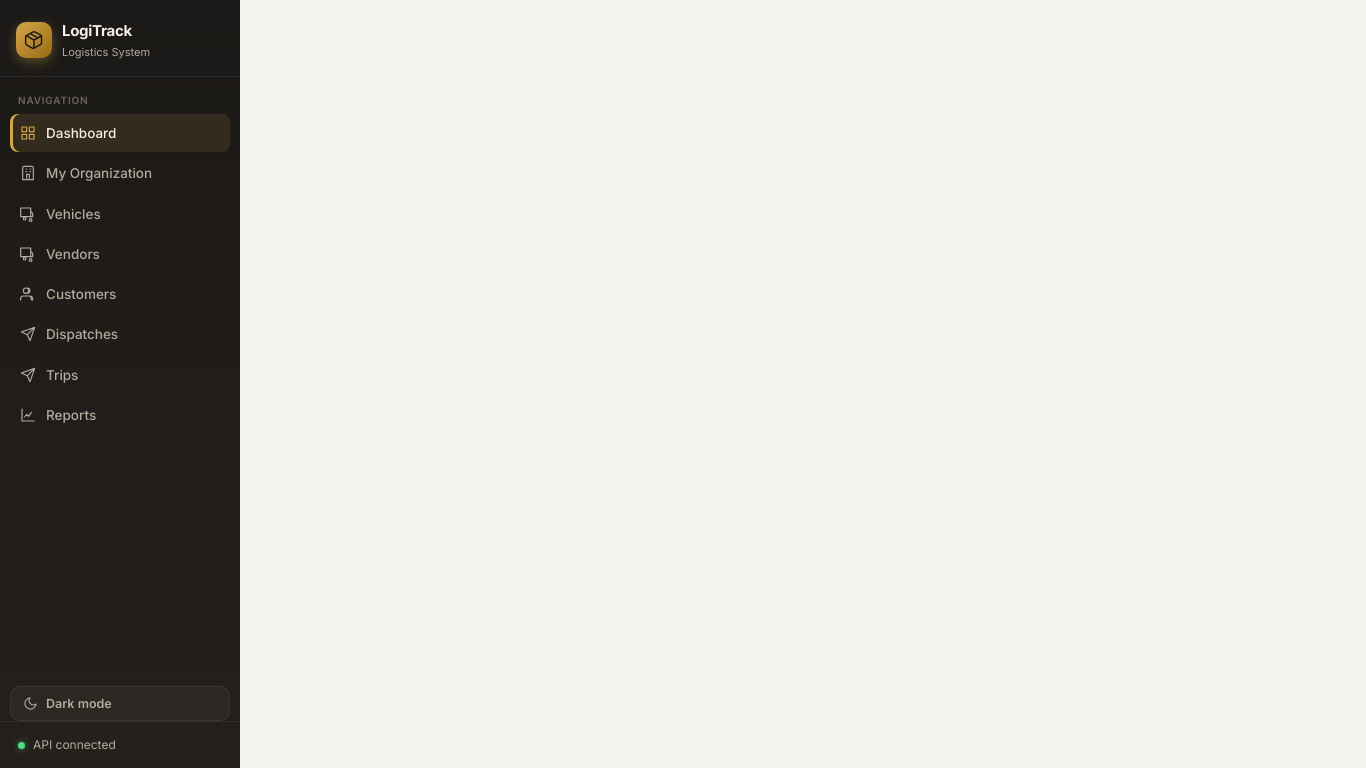
Scenario: Sidebar › toggles the theme when the theme button is clicked
Step 1. Click the button with aria-label "switch to dark theme" → [120, 704], box [10, 686, 230, 721]
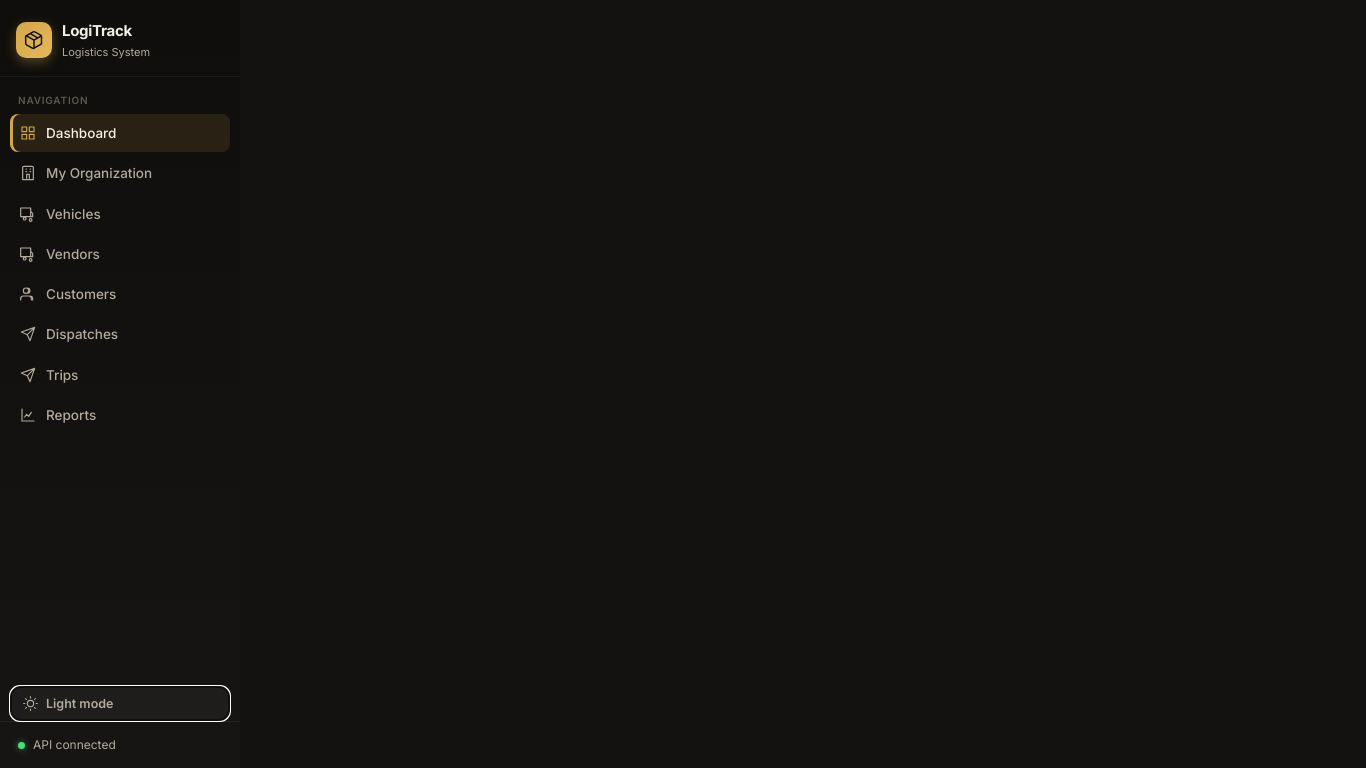
Result: the button with aria-label "switch to light theme" is shown at [10, 686, 230, 721]
